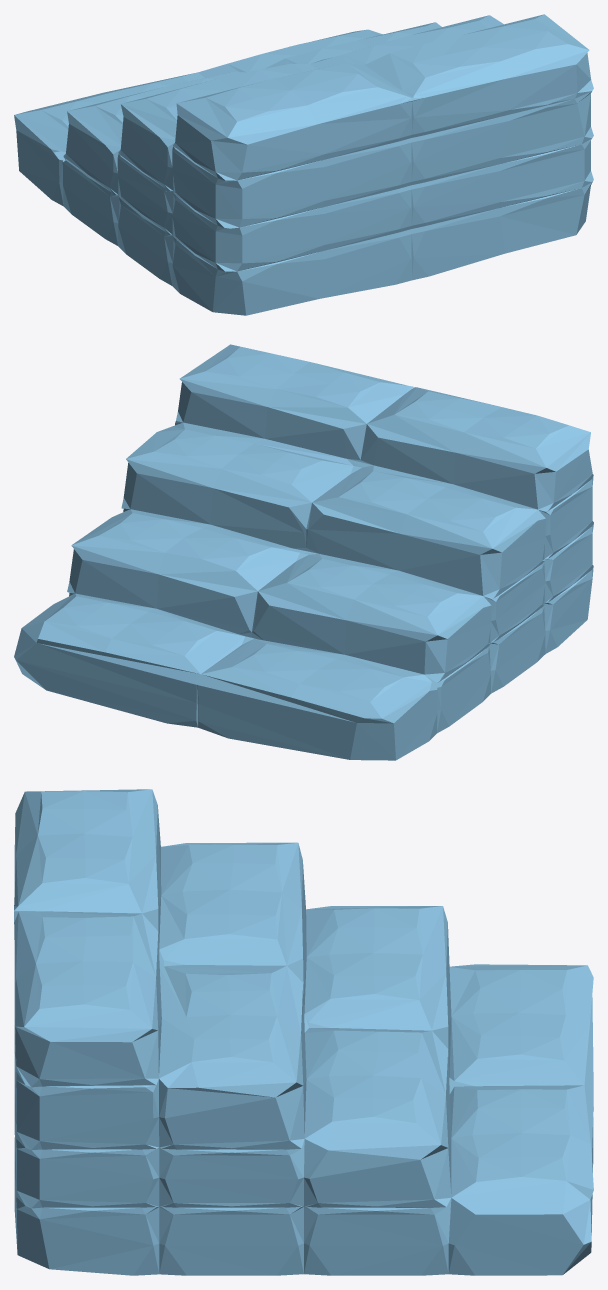
The model's file is brick stairs style 1.fbx.
3 views of the same model, one above another, from view 1: azimuth 30°, elevation 25°; view 2: azimuth 150°, elevation 25°; view 3: azimuth 270°, elevation 25° (orthographic). The views are drawn at different scales.
Parts seen in each view (by area): view 1: Cube.105; view 2: Cube.105; view 3: Cube.105.
Part boxes in pixels (box(x1,y1,x2,y2)): Cube.105: box(14, 14, 593, 315); Cube.105: box(14, 344, 593, 760); Cube.105: box(14, 789, 593, 1275).
Size of the model in its own units: 300 by 150 by 300.
